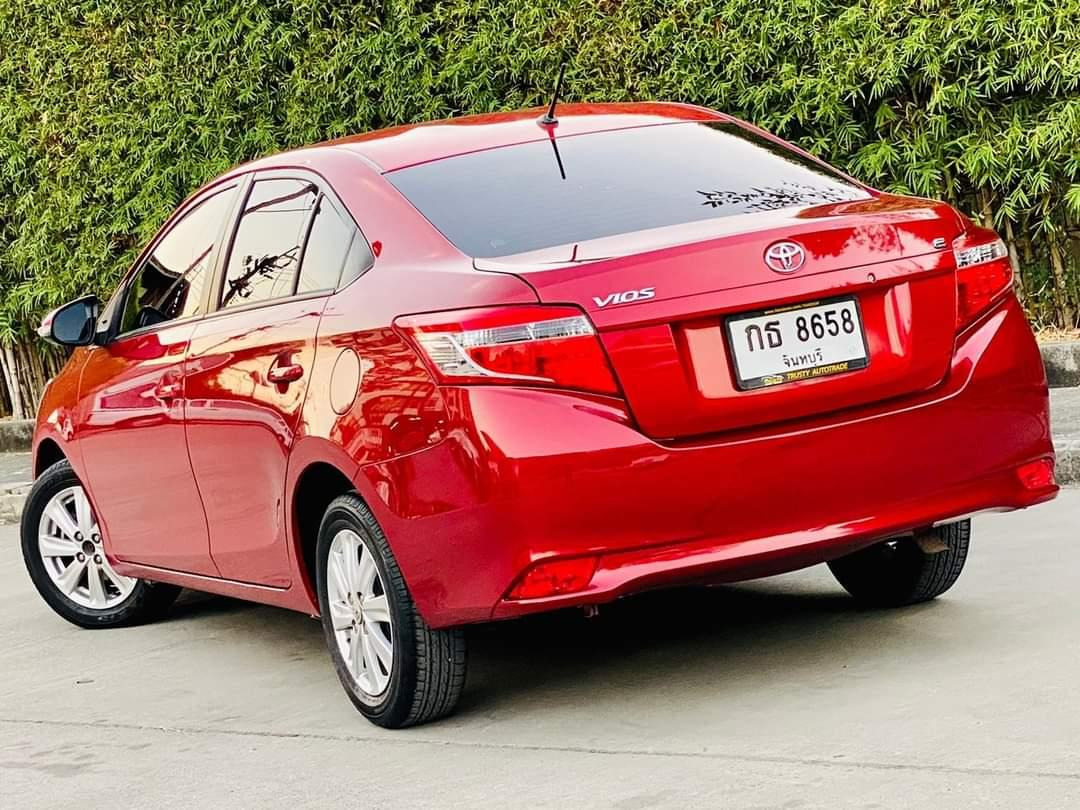license-plate: (712, 289, 878, 399)
